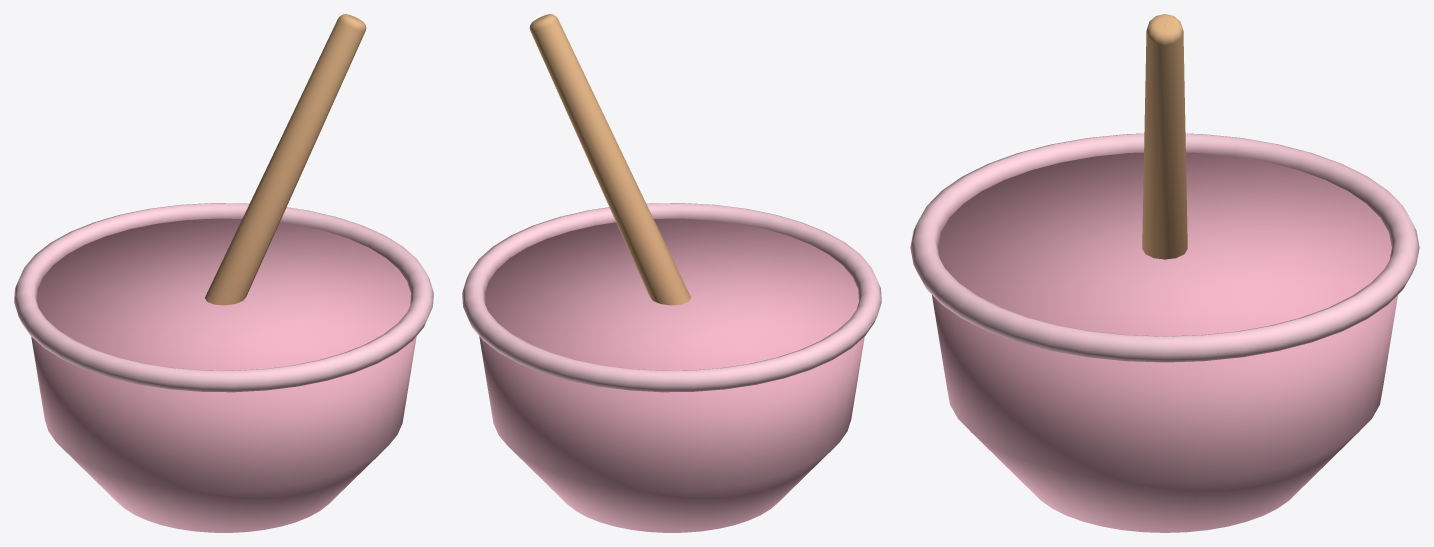
Rendered from bowl.glb.
3 views of the same model, side by side, from view 1: azimuth 30°, elevation 25°; view 2: azimuth 150°, elevation 25°; view 3: azimuth 270°, elevation 25° (orthographic). The views are drawn at different scales.
Parts seen in each view (by area): view 1: bowl.001, rim, spoon; view 2: bowl.001, rim, spoon; view 3: bowl.001, rim, spoon.
Part boxes in pixels (<box>): bowl.001: <box>31,218,416,532</box>; rim: <box>14,203,433,392</box>; spoon: <box>205,14,366,305</box>; bowl.001: <box>479,218,864,532</box>; rim: <box>462,203,881,392</box>; spoon: <box>529,14,690,305</box>; bowl.001: <box>932,152,1397,532</box>; rim: <box>910,133,1419,362</box>; spoon: <box>1142,14,1187,259</box>.
Size of the model in its own units: 1.1 by 1.29 by 1.1.
